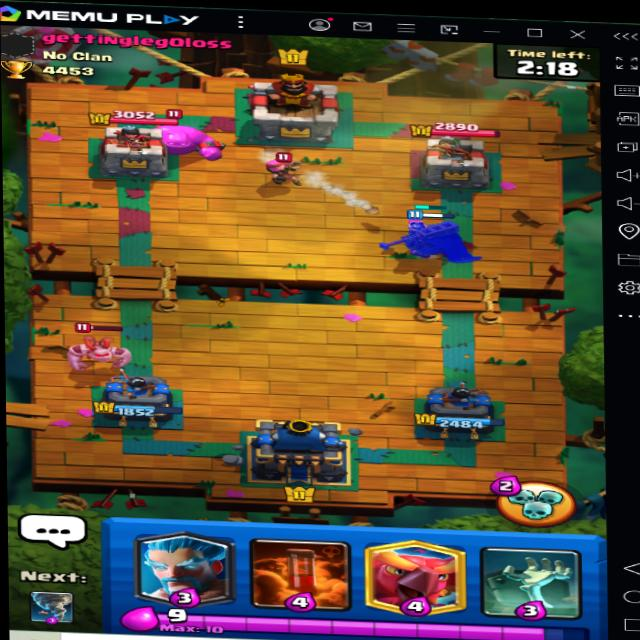electro-golem: (142, 108, 227, 168)
firecracker: (252, 147, 306, 187)
mega-minion: (52, 315, 139, 380)
